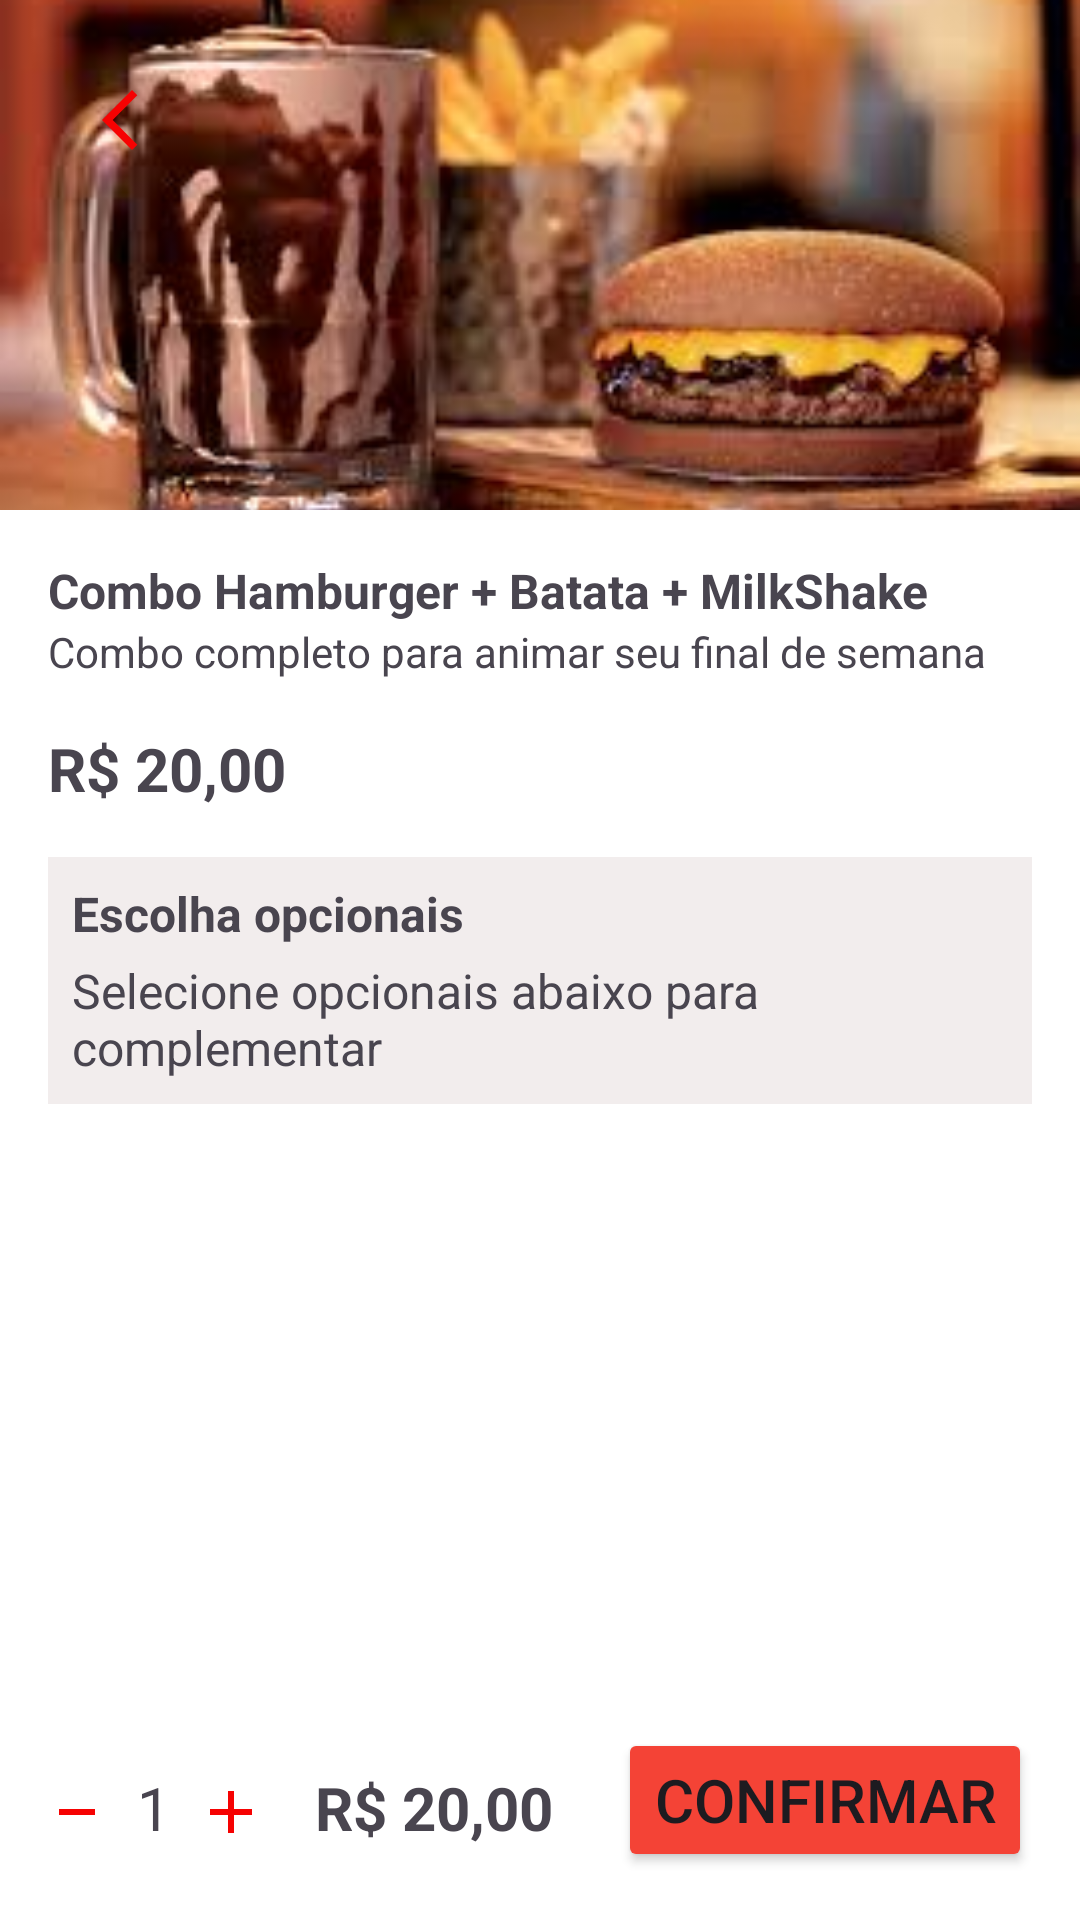

Icons on this 1080 × 1920 Android screen, each with its box as bbox=(x1, y1, x2, y2):
mais: bbox=(210, 1791, 252, 1833)
